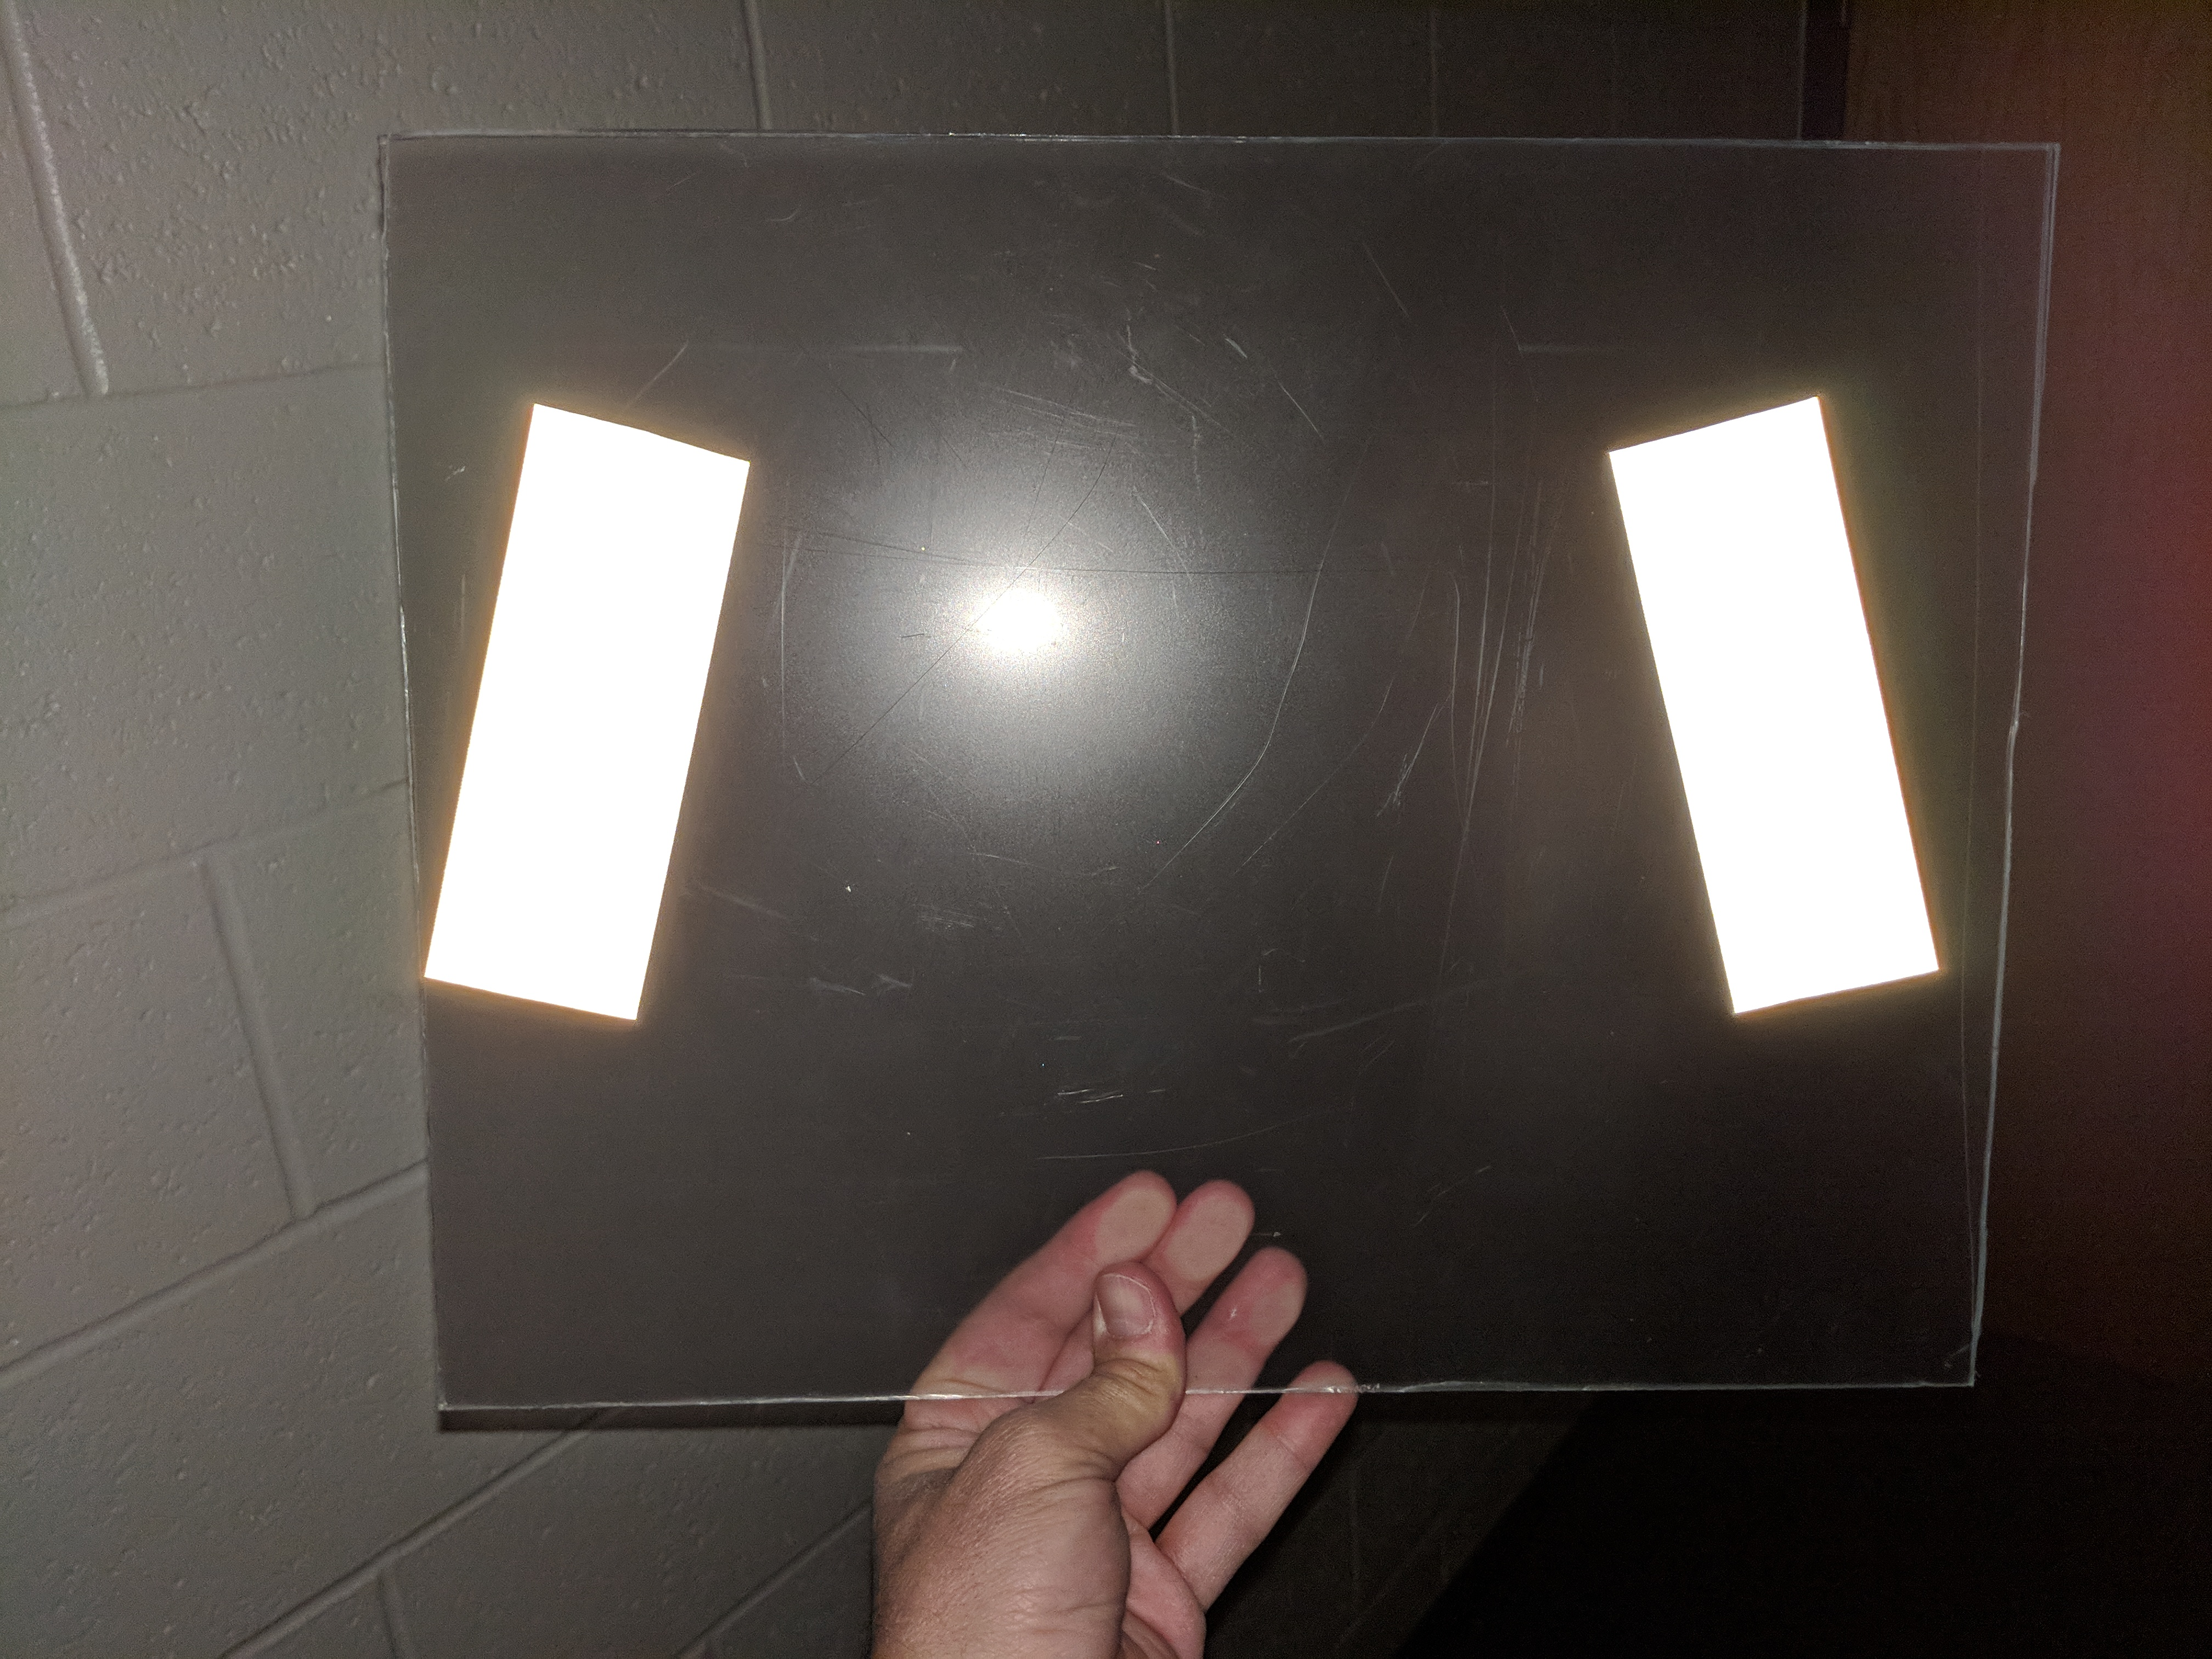vision_target: (423, 396, 1965, 1035)
